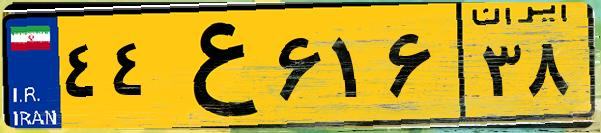1: (330, 28, 385, 110)
3: (475, 38, 525, 113)
4: (57, 26, 110, 100), (110, 28, 158, 98)
6: (270, 28, 330, 110), (385, 28, 445, 110)
8: (525, 38, 570, 115)
ع: (158, 12, 270, 120)
